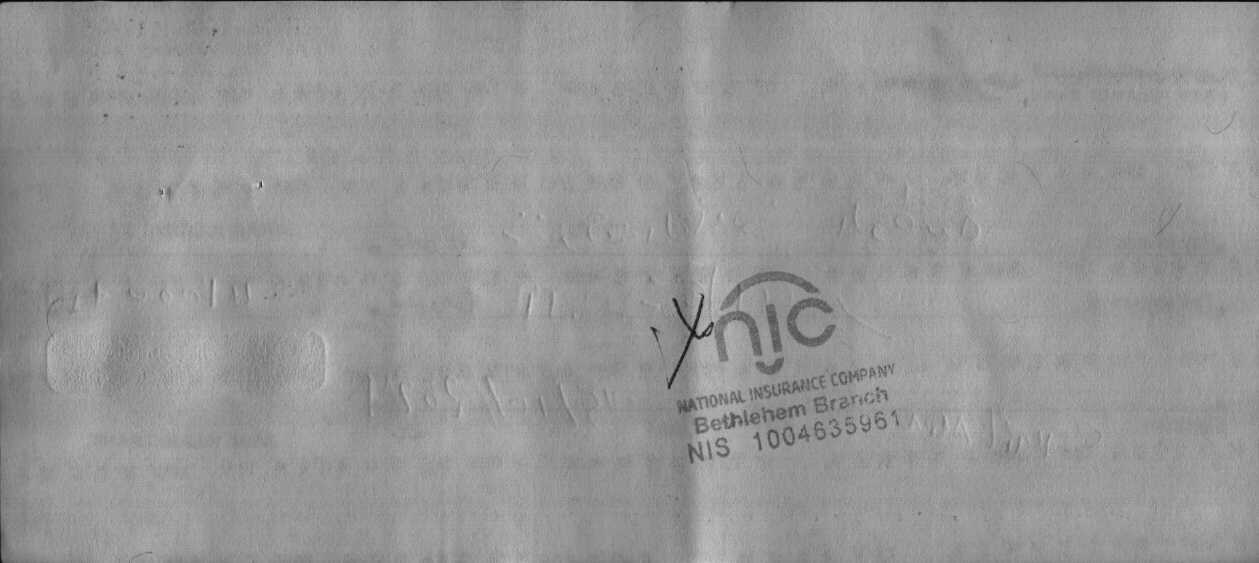stamp: (669, 265, 902, 468)
